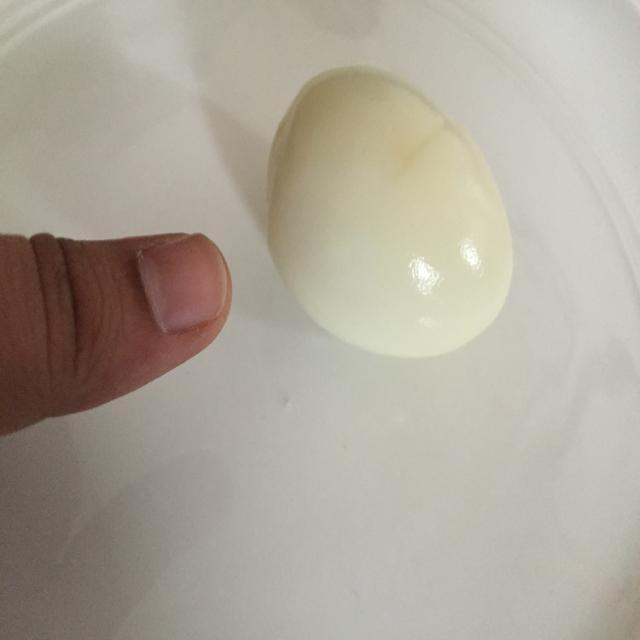Egg: (254, 62, 529, 366)
Finger: (14, 222, 242, 418)
